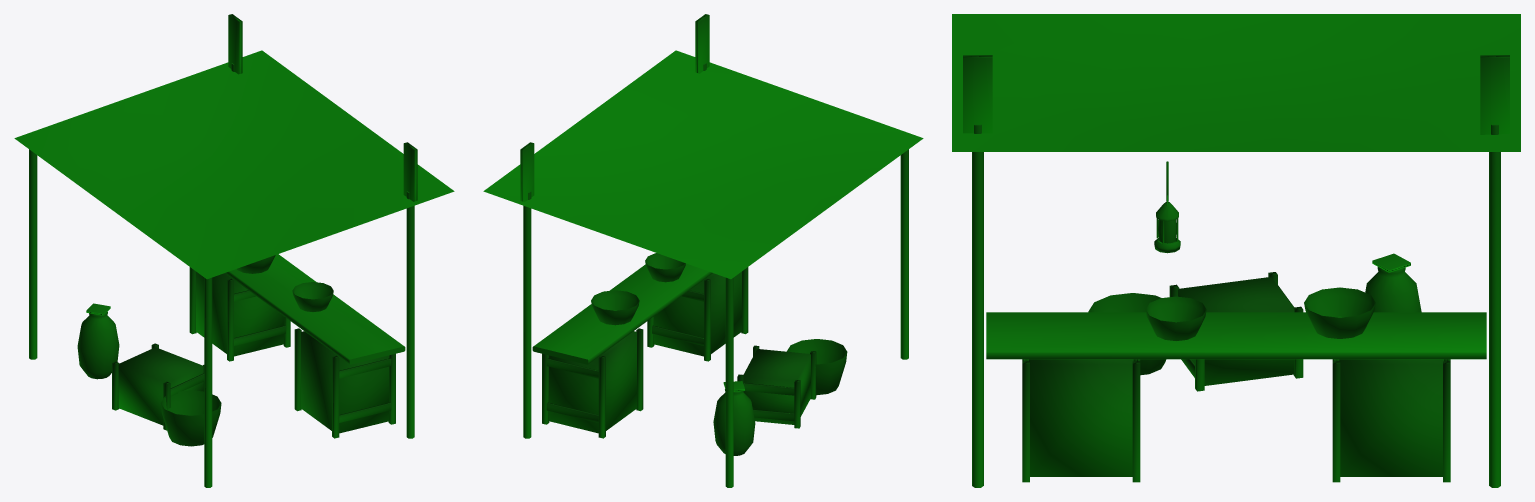
Rendered from stall_awning.glb.
3 renders of one model, left to right at view 1: azimuth 30°, elevation 25°; view 2: azimuth 150°, elevation 25°; view 3: azimuth 270°, elevation 25°, orthographic. The views are drawn at different scales.
Visible parts, largest first — view 1: stall_awning; view 2: stall_awning; view 3: stall_awning.
Part boxes in pixels (left/top/right/bottom): stall_awning: left=14, top=14, right=454, bottom=487; stall_awning: left=483, top=14, right=923, bottom=487; stall_awning: left=952, top=14, right=1520, bottom=487.
Size of what is drawn, in the model's own units: 2.45 by 2.75 by 3.3.
